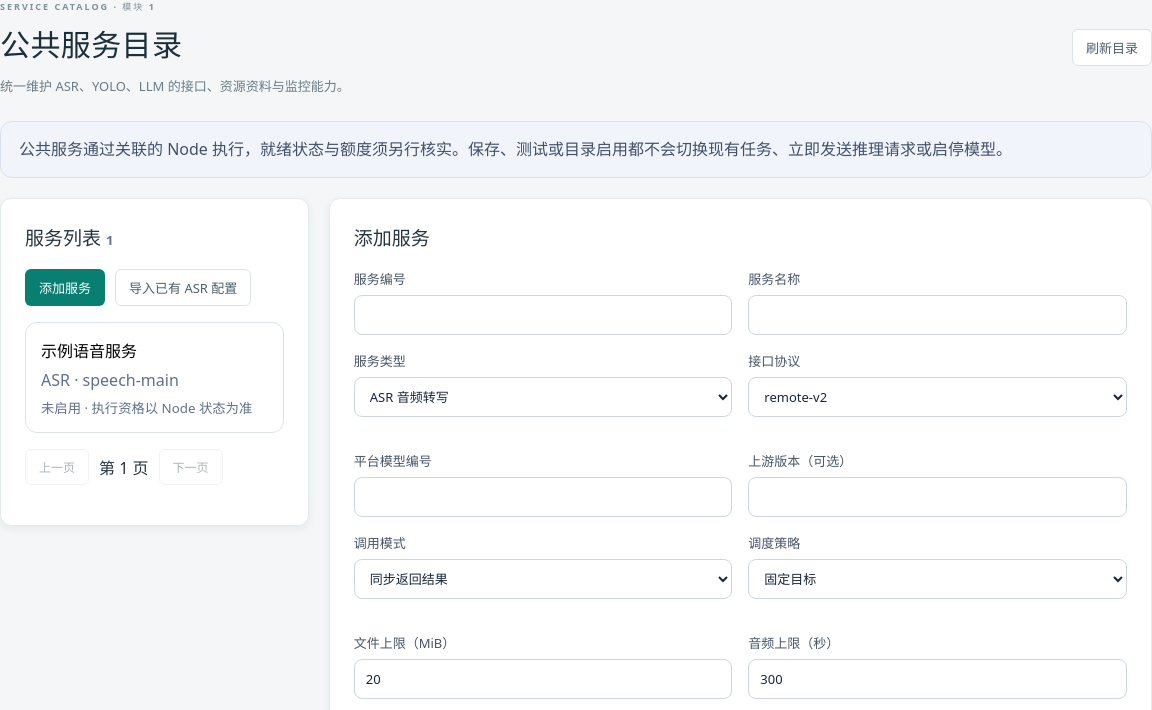
Scenario: public service catalog module › creates protocol-specific targets without stray protocol fields
This screenshot has width=1152, height=710.
Expected: the button "示例语音服务 ASR · speech-main 未启用 · 执行资格以 Node 状态为准" is shown, left=25, top=322, right=284, bottom=433
Select "YOLO 图片检测" in the dropdown labelled "服务类型": (543, 397) left=354, top=377, right=732, bottom=417
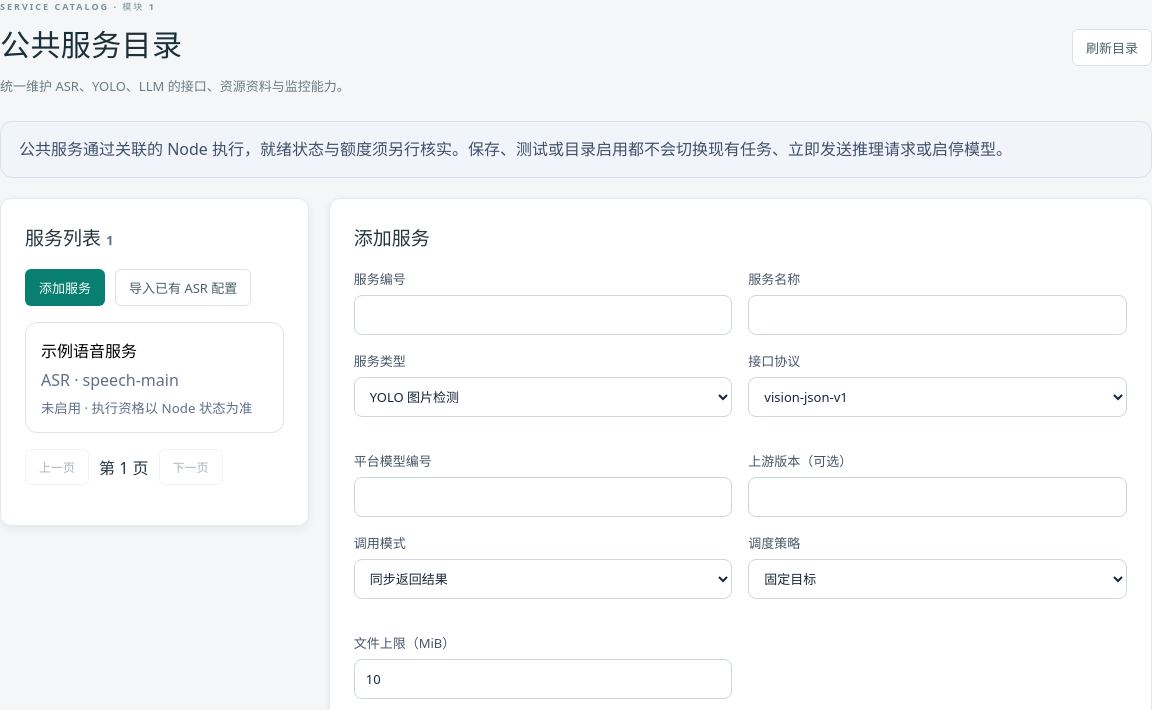
Now the number field labelled "文件上限（MiB）" holds "10", box left=354, top=659, right=732, bottom=699
Select "LLM 文本生成" in the dropdown labelled "服务类型": (543, 397) left=354, top=377, right=732, bottom=417
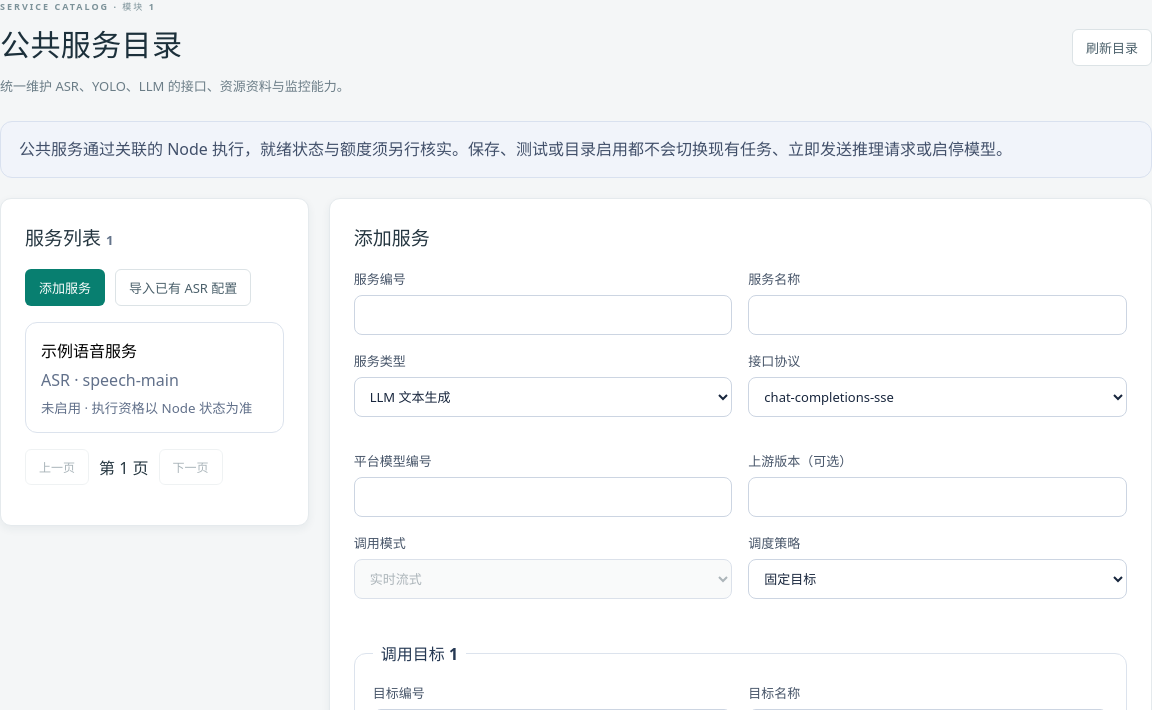
Now the dropdown labelled "调用模式" shows "实时流式", box left=354, top=559, right=732, bottom=599
